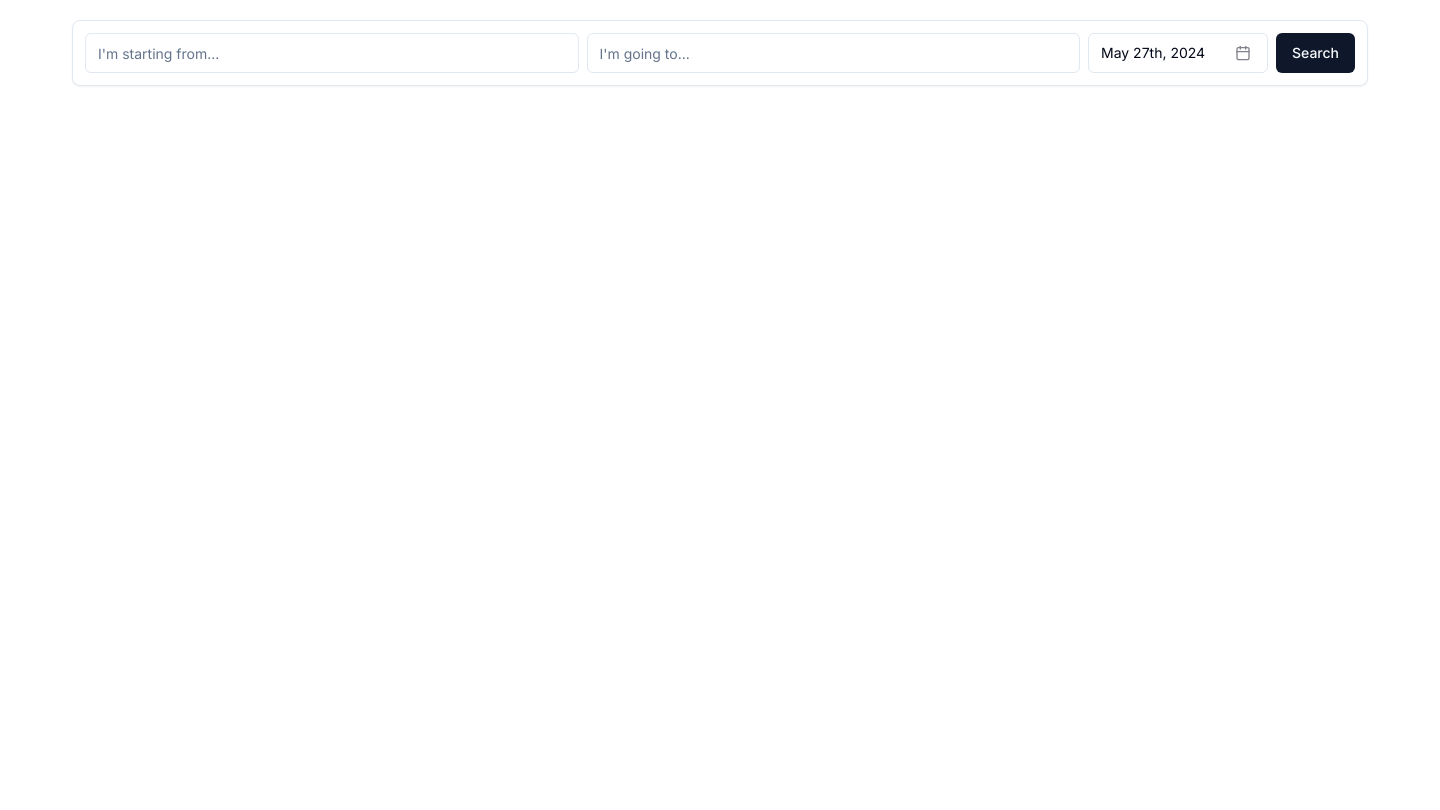
Search card › Interaction › should display popover with calendar if date picker is clicked
What coordinates should you click on to do the following:
click the button "May 27th, 2024"
I would click on:
 (1178, 53)
Its box is [1088, 33, 1268, 73].
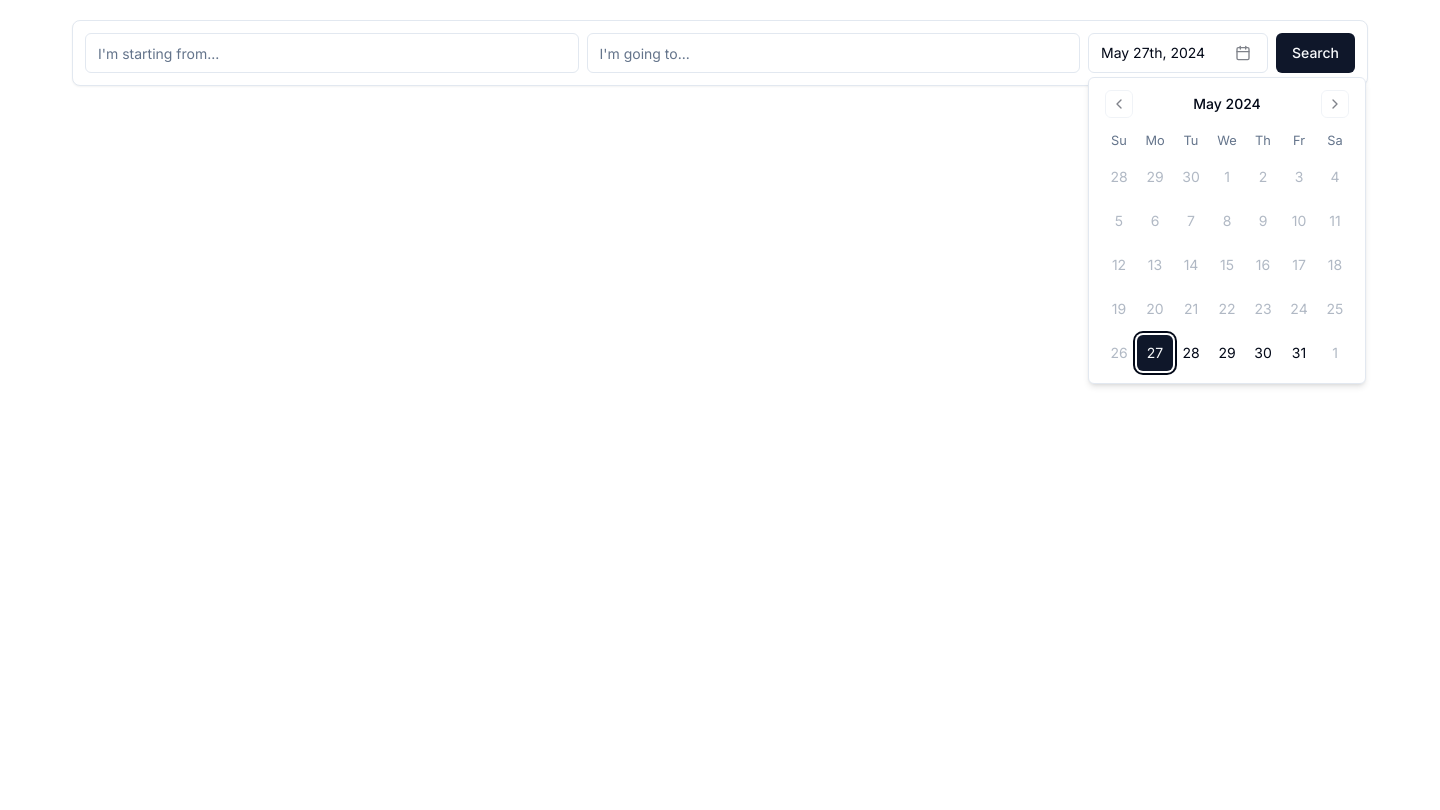
Now the dialog is shown, box [1088, 77, 1366, 384]
